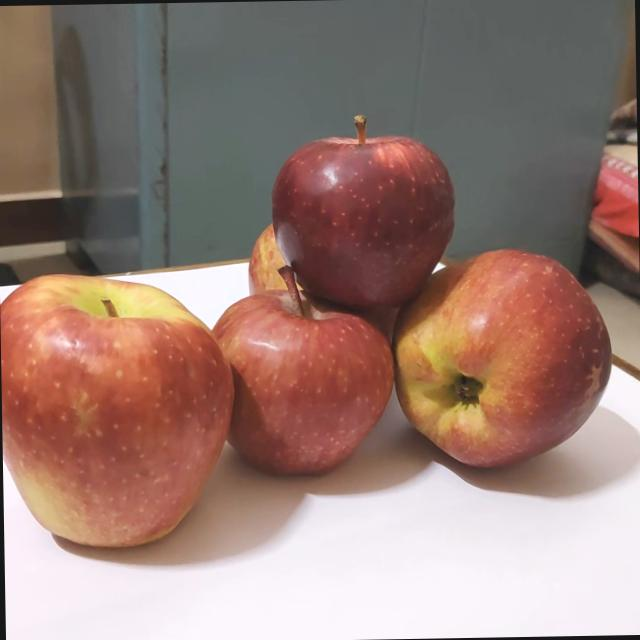apple: (0, 259, 236, 555), (392, 242, 620, 472), (210, 255, 396, 488), (265, 102, 460, 304), (248, 210, 304, 296)
